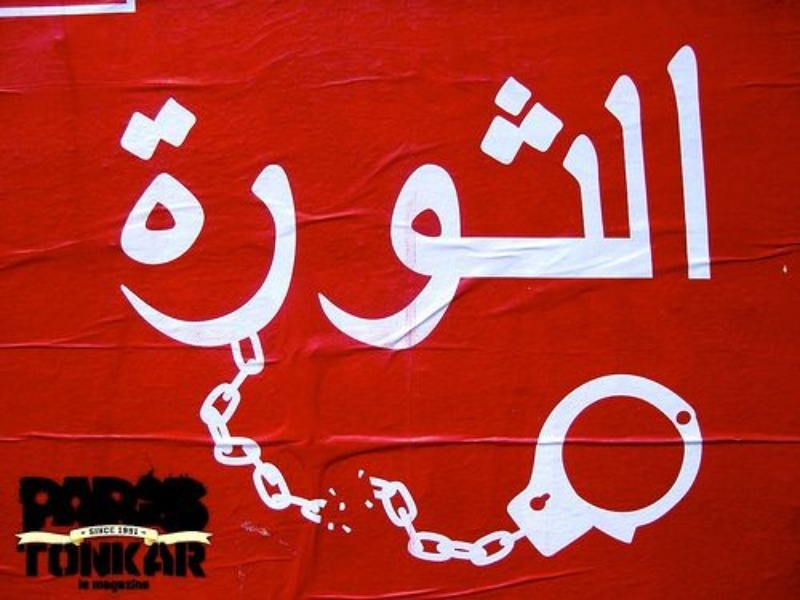text: (129, 41, 144, 370), (145, 41, 160, 370), (161, 41, 176, 370), (177, 41, 192, 370), (193, 41, 208, 370), (209, 41, 224, 370), (225, 41, 240, 370), (241, 41, 256, 370), (257, 41, 272, 370), (273, 41, 288, 370), (289, 41, 304, 370), (305, 41, 320, 370), (321, 41, 336, 370), (337, 41, 352, 370), (353, 41, 368, 370), (369, 41, 384, 370), (385, 41, 400, 370), (401, 41, 416, 370), (417, 41, 432, 370), (433, 41, 448, 370), (449, 41, 464, 370), (465, 41, 480, 370), (481, 41, 496, 370), (497, 41, 512, 370), (513, 41, 528, 370), (529, 41, 544, 370), (545, 41, 560, 370), (561, 41, 576, 370), (577, 41, 592, 370), (593, 41, 608, 370), (609, 41, 624, 370), (625, 41, 640, 370), (641, 41, 656, 370), (657, 41, 672, 370), (673, 41, 688, 370), (689, 41, 704, 370), (705, 41, 719, 370), (119, 41, 128, 370), (33, 469, 48, 530), (49, 469, 64, 530), (65, 469, 80, 530), (81, 469, 96, 530), (97, 469, 112, 530), (113, 469, 128, 530), (129, 469, 144, 530), (145, 469, 160, 530), (161, 469, 176, 530), (177, 469, 192, 530), (193, 469, 208, 530), (18, 469, 32, 530), (17, 541, 32, 580), (33, 541, 48, 580), (49, 541, 64, 580), (65, 541, 80, 580), (81, 541, 96, 580), (97, 541, 112, 580), (113, 541, 128, 580), (129, 541, 144, 580), (145, 541, 160, 580), (161, 541, 176, 580), (177, 541, 192, 580), (193, 541, 208, 580), (209, 469, 213, 530), (81, 580, 96, 593), (97, 580, 112, 593), (113, 580, 128, 593), (129, 580, 144, 593), (97, 525, 112, 537), (113, 525, 128, 537), (129, 525, 143, 537), (145, 580, 156, 593), (85, 525, 96, 537), (209, 541, 210, 580), (77, 580, 80, 593)
